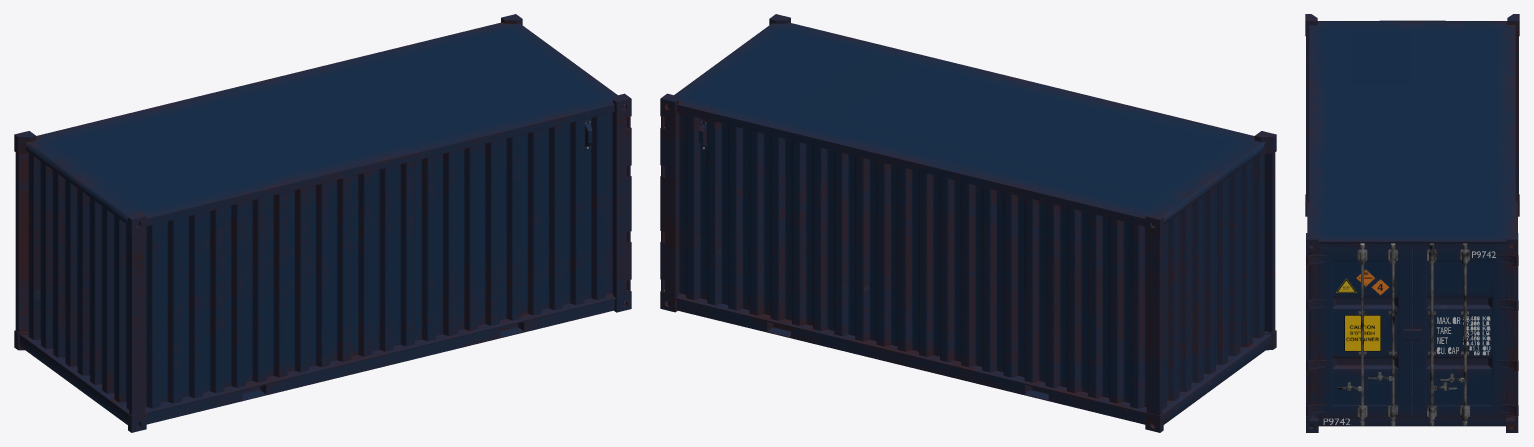
The model's file is container with textures.fbx.
3 renders of one model, left to right at view 1: azimuth 30°, elevation 25°; view 2: azimuth 150°, elevation 25°; view 3: azimuth 270°, elevation 25°, orthographic. The views are drawn at different scales.
Visible parts, largest first — view 1: Container; view 2: Container; view 3: Container, highcube.001.
Boxes of the visible parts, bbox=[...] form: Container: bbox=[14, 14, 631, 432]; Container: bbox=[660, 14, 1276, 432]; Container: bbox=[1305, 14, 1519, 432]; highcube.001: bbox=[1344, 315, 1380, 351].
Size of the model in its own units: 644 by 262 by 260.
Materials: 7 (6 with a texture image).
